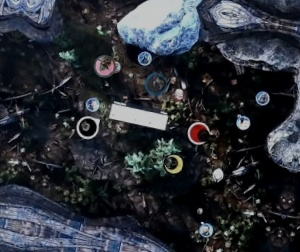black: (73, 113, 100, 141)
brown_turquoise: (142, 69, 170, 96)
lime_green_violet: (159, 150, 186, 177)
pink_green: (92, 51, 119, 78)
red: (185, 119, 212, 146)
